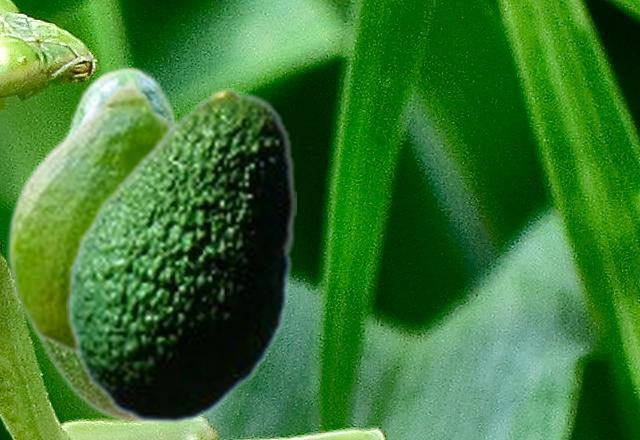avocado: (66, 88, 295, 424), (31, 65, 180, 423), (6, 74, 173, 356)
